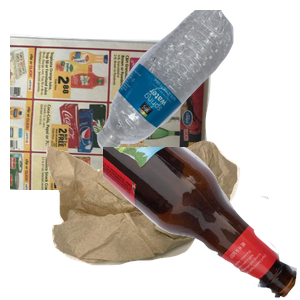glass: (103, 147, 300, 300)
paper: (10, 31, 214, 211)
plastic: (94, 10, 300, 154)
trash: (44, 136, 277, 300)
